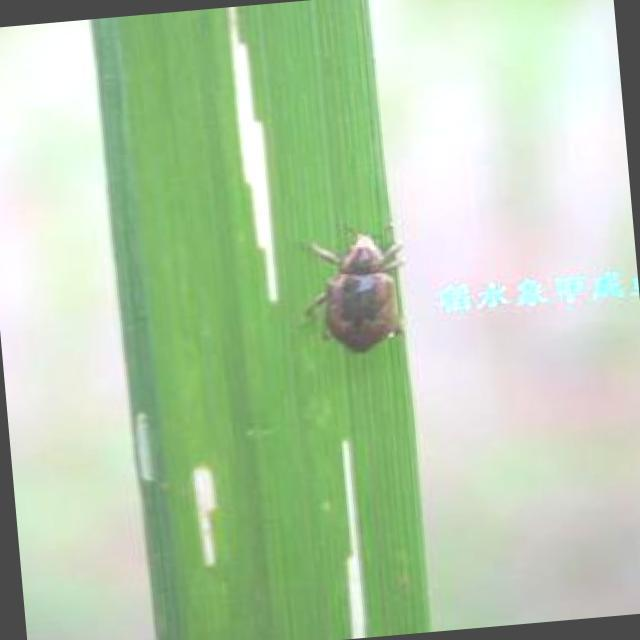ricebug: (305, 233, 403, 353)
